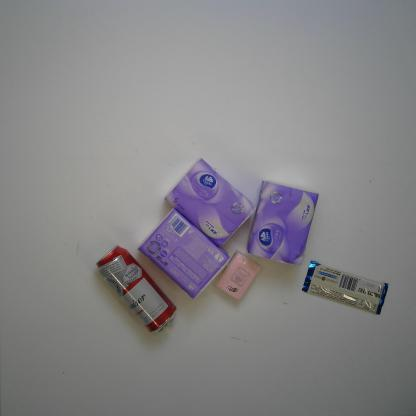Alcohol: (94, 244, 178, 334)
Chocolate: (300, 259, 390, 316)
Tissue: (136, 207, 231, 300), (163, 156, 257, 249), (246, 180, 320, 266), (213, 249, 262, 301)
